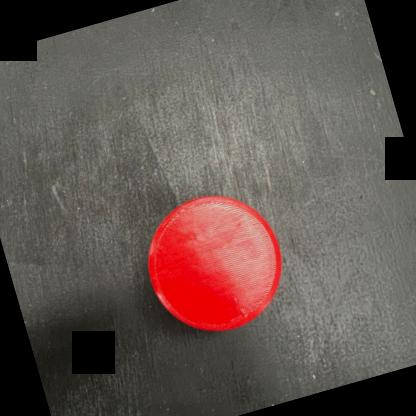red cylinder: (129, 178, 301, 350)
